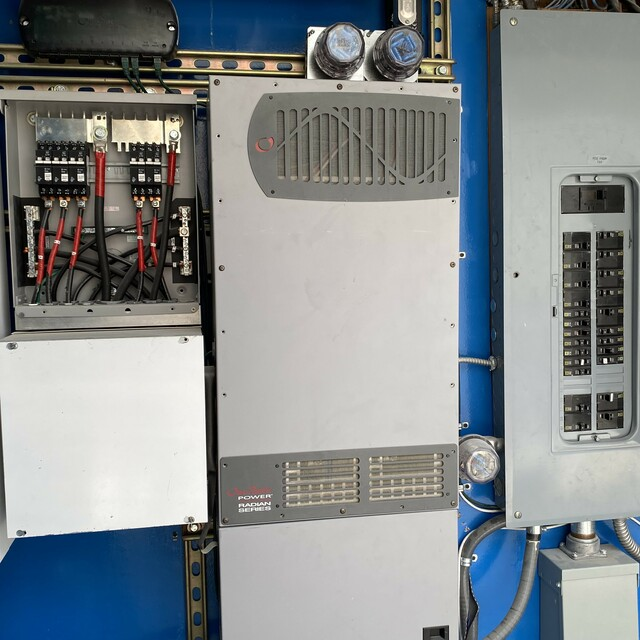inverter: (207, 70, 467, 640)
